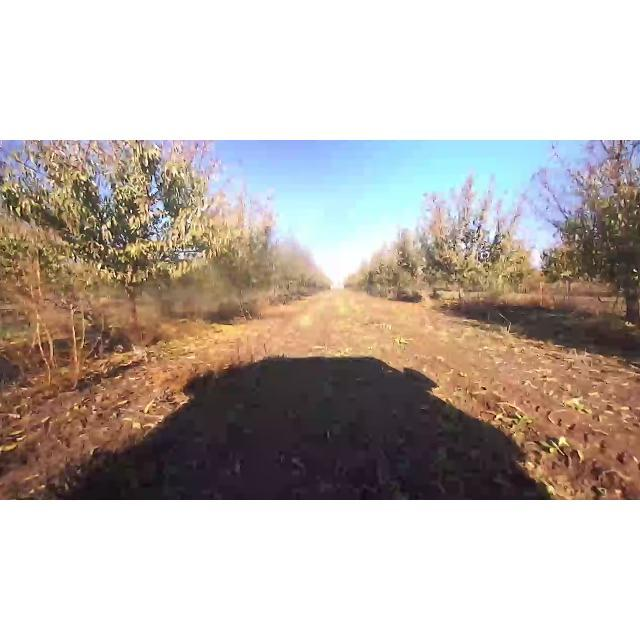tree: (8, 140, 215, 370), (524, 142, 640, 334), (416, 174, 524, 306), (175, 184, 282, 314), (389, 217, 436, 299)
